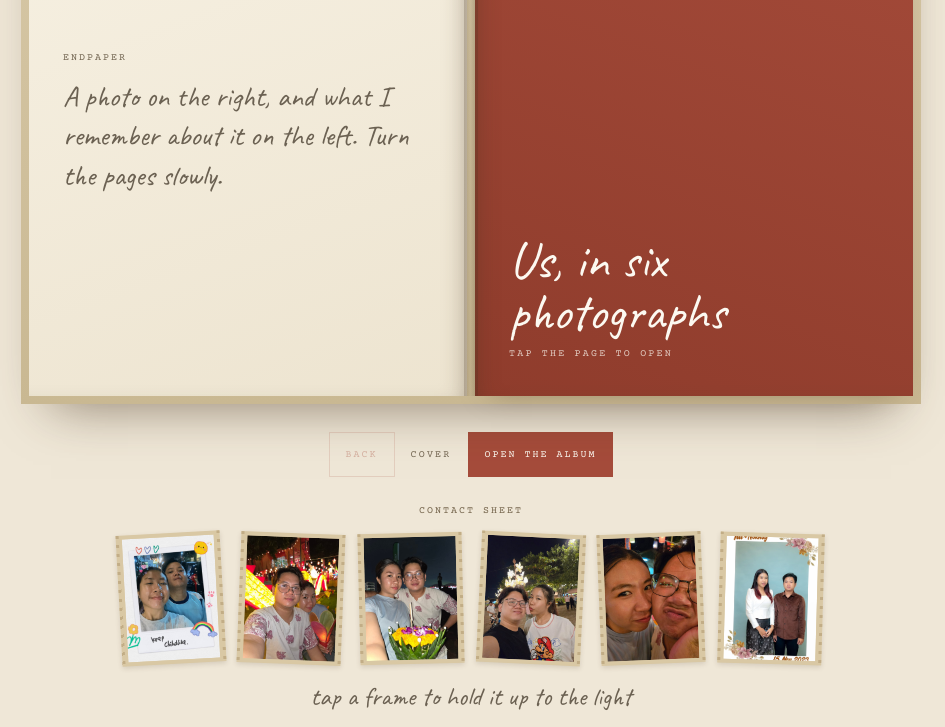
Test: AlbumSection › stops at the last plate and says so
(page scrolled)
Click the button with aria-label "Next page" at point(540, 454), box [468,432,614,477]
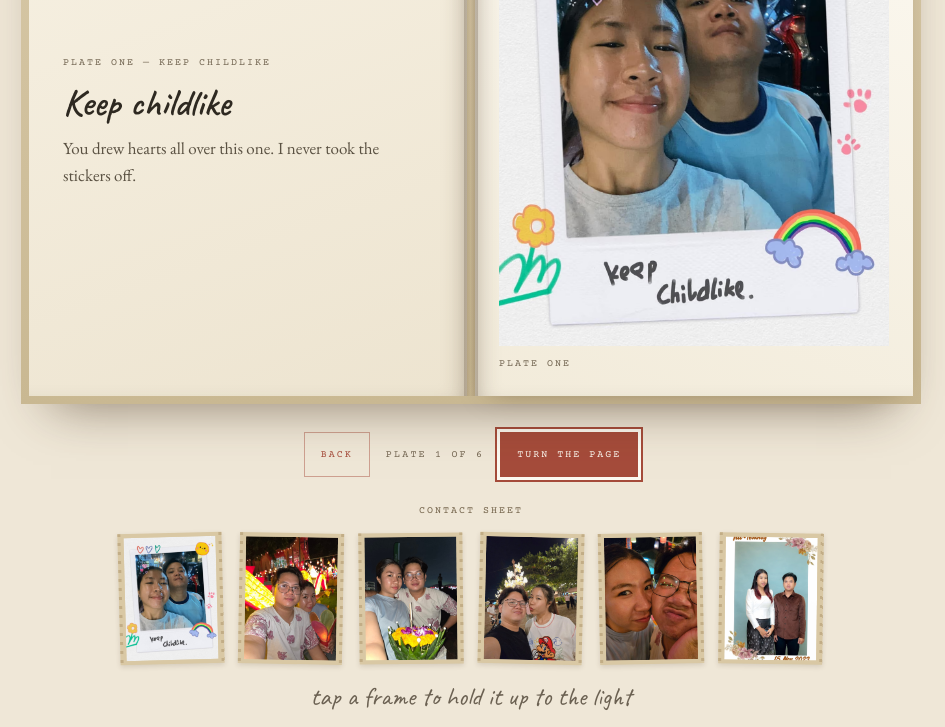
Click the button with aria-label "Next page" at point(569, 454), box [500,432,638,477]
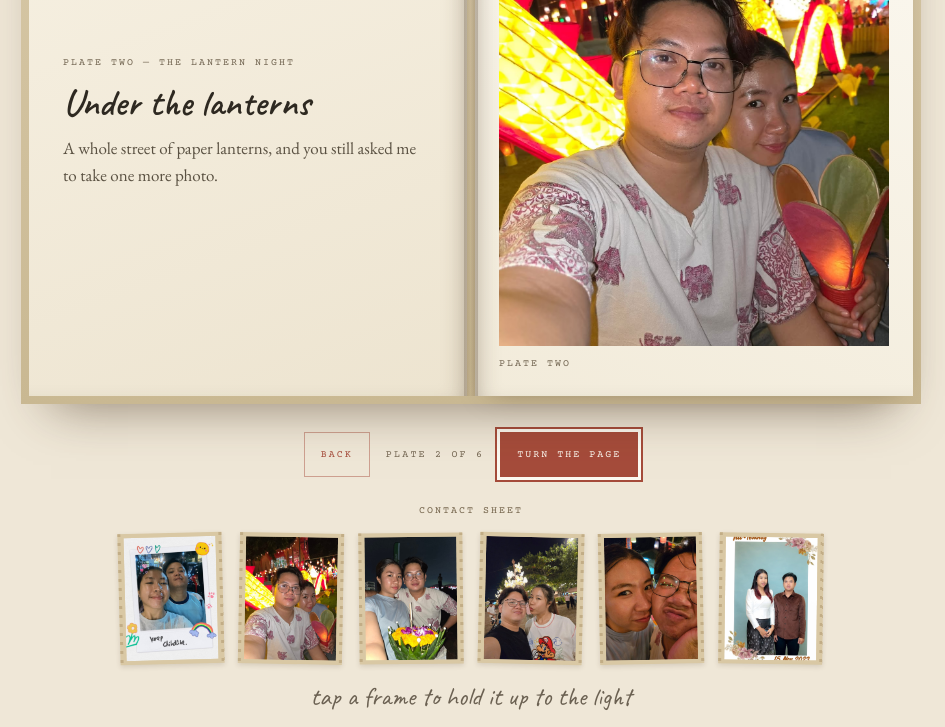
Click the button with aria-label "Next page" at point(569, 454), box [500,432,638,477]
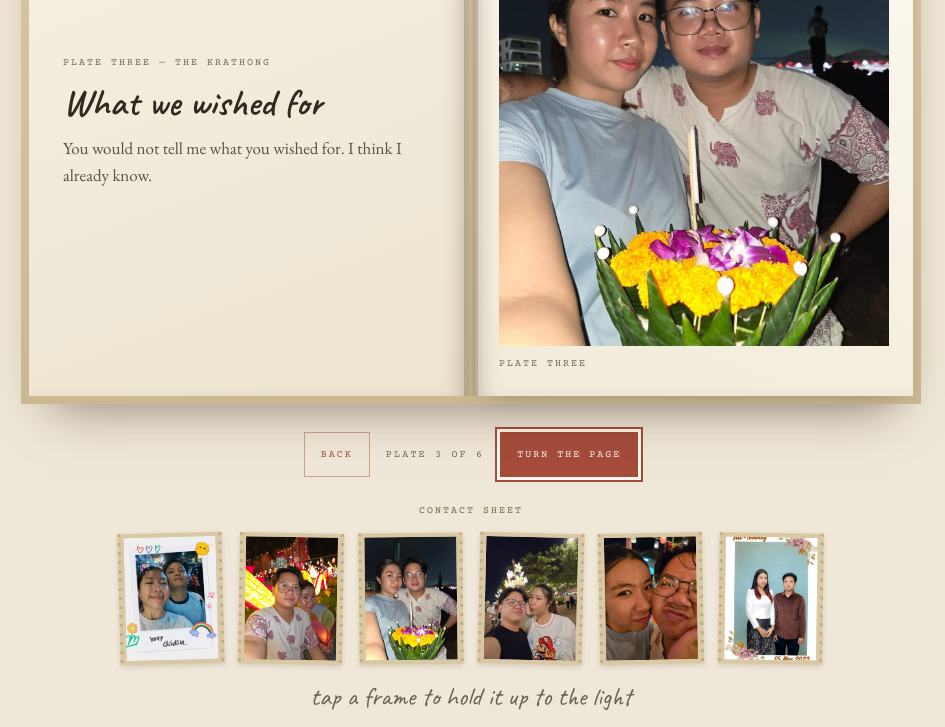
Click the button with aria-label "Next page" at point(569, 454), box [500,432,638,477]
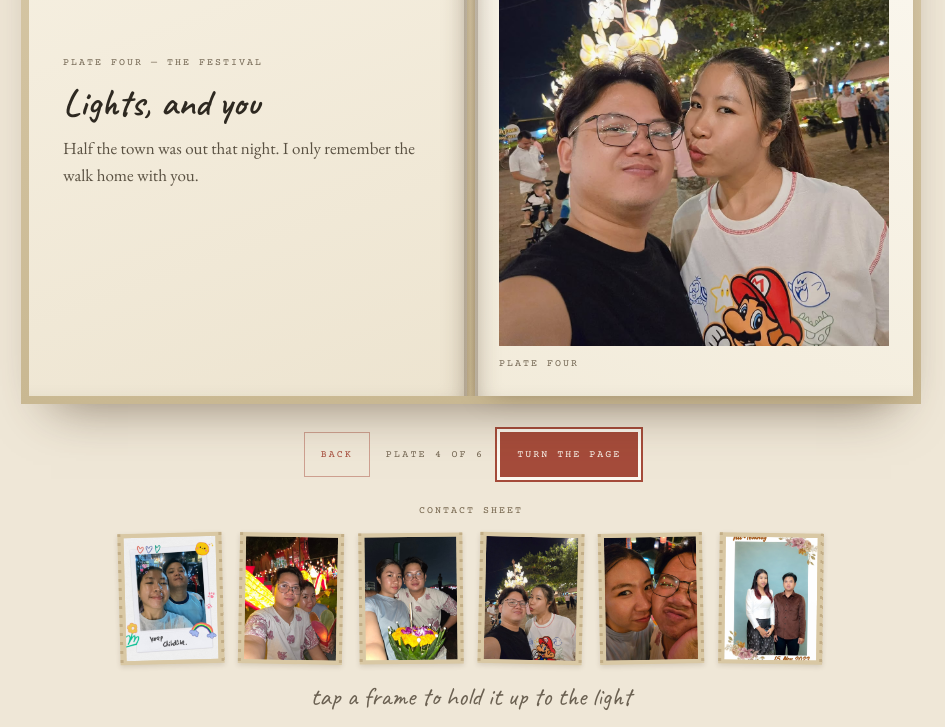
Click the button with aria-label "Next page" at point(569, 454), box [500,432,638,477]
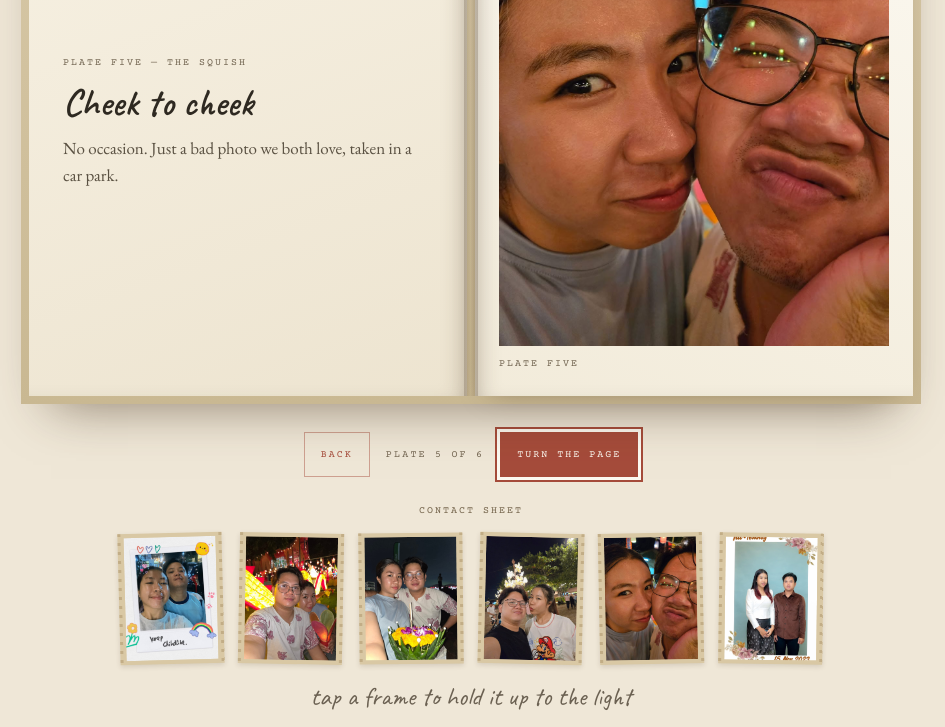
Click the button with aria-label "Next page" at point(569, 454), box [500,432,638,477]
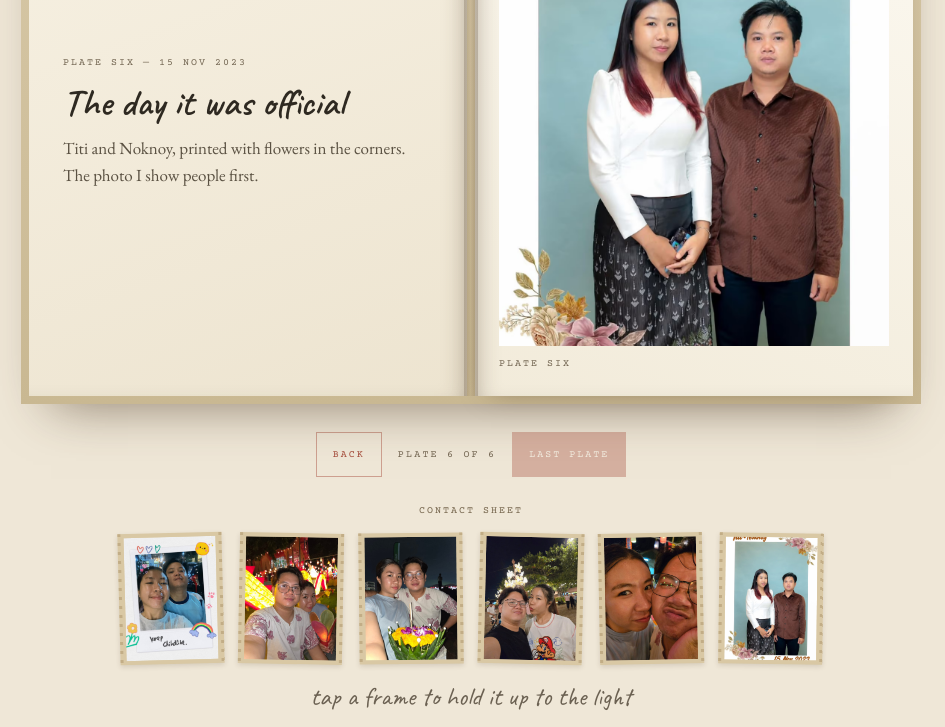
Expected: the button with aria-label "Next page" reads "last plate", [512,432,626,477]
Expected: the button with aria-label "Next page" is disabled, [512,432,626,477]
